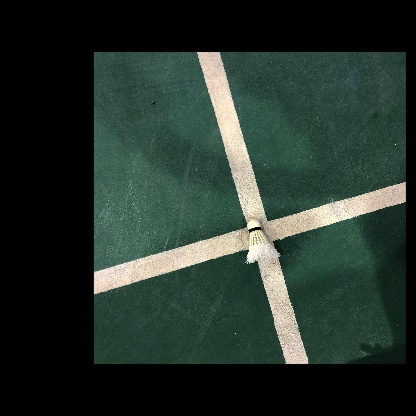ball_single: (247, 219, 279, 263)
